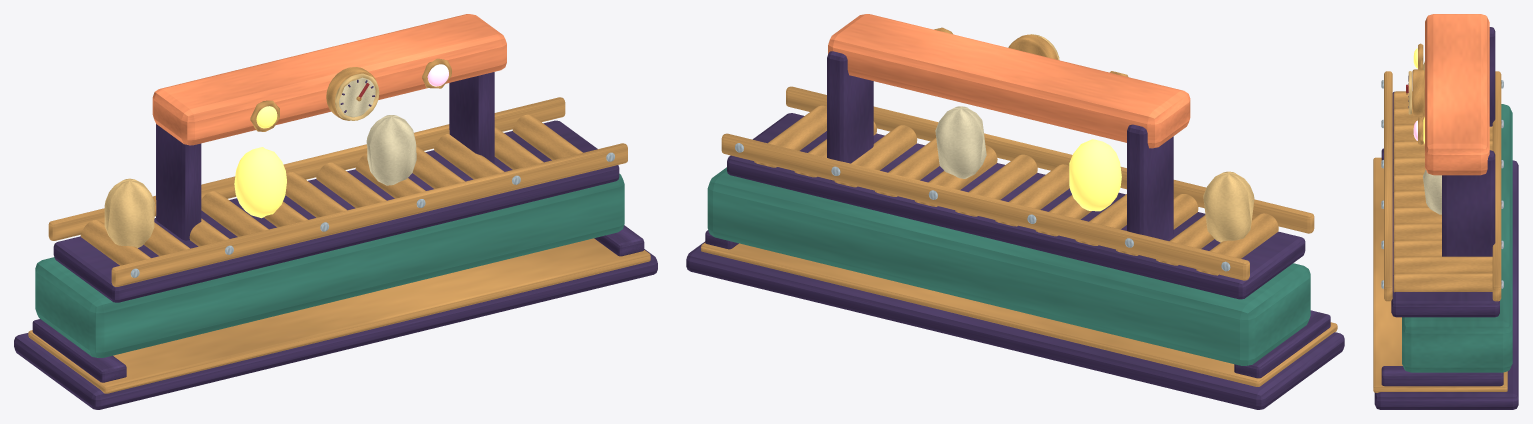
The model's file is Golden-Egg-Sorting-Conveyor.glb.
3 views of the same model, side by side, from view 1: azimuth 30°, elevation 25°; view 2: azimuth 150°, elevation 25°; view 3: azimuth 270°, elevation 25° (orthographic). The views are drawn at different scales.
Visible parts, largest first — view 1: Golden-Egg-Sorting-Conveyor | housing, Golden-Egg-Sorting-Conveyor | moving assembly; view 2: Golden-Egg-Sorting-Conveyor | housing, Golden-Egg-Sorting-Conveyor | moving assembly; view 3: Golden-Egg-Sorting-Conveyor | housing, Golden-Egg-Sorting-Conveyor | moving assembly.
Boxes of the visible parts, x1,y1,x2,y2 form: Golden-Egg-Sorting-Conveyor | housing: (14, 14, 657, 409); Golden-Egg-Sorting-Conveyor | moving assembly: (104, 115, 416, 247); Golden-Egg-Sorting-Conveyor | housing: (686, 14, 1344, 409); Golden-Egg-Sorting-Conveyor | moving assembly: (935, 106, 1254, 242); Golden-Egg-Sorting-Conveyor | housing: (1373, 14, 1518, 409); Golden-Egg-Sorting-Conveyor | moving assembly: (1423, 61, 1441, 214).
Bounding box in the file's own units: 5.4 × 2.34 × 1.39.
10 materials, 8 textured.
